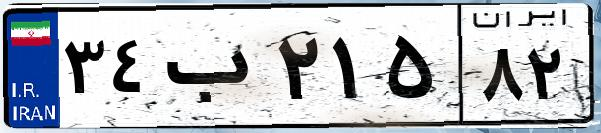1: (330, 28, 385, 110)
2: (270, 28, 330, 110), (525, 38, 570, 115)
3: (57, 26, 110, 100)
4: (110, 28, 158, 98)
5: (385, 28, 445, 110)
8: (475, 38, 525, 113)
ب: (158, 20, 270, 120)
